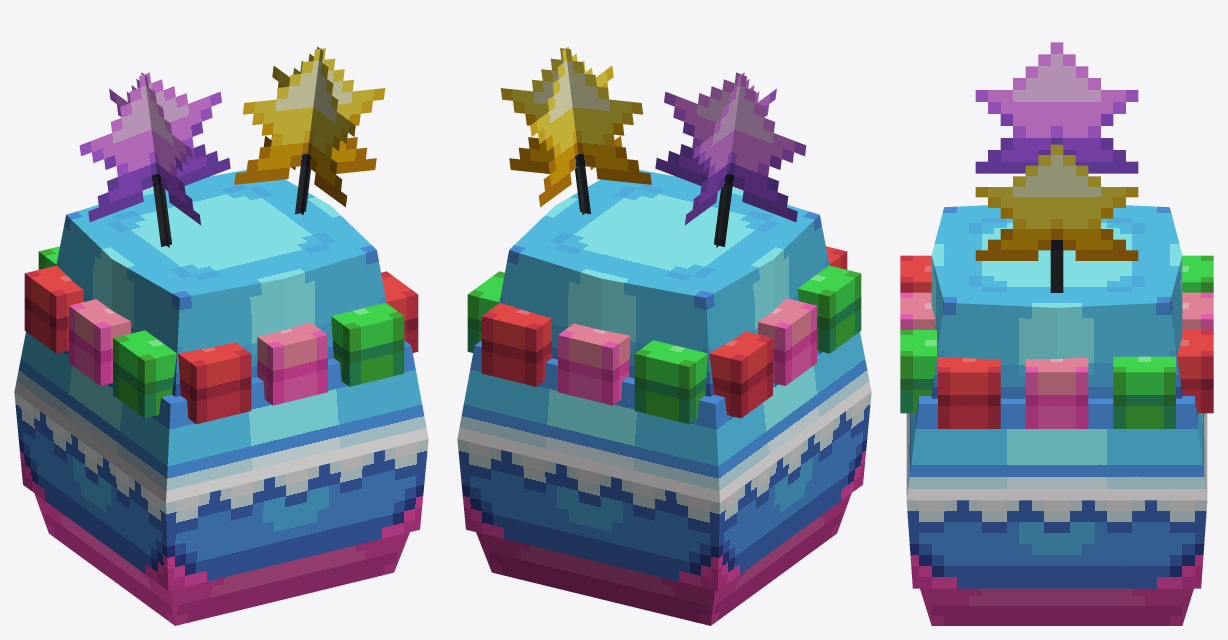
File: surprise-egg.gltf
3 renders of one model, left to right at view 1: azimuth 30°, elevation 25°; view 2: azimuth 150°, elevation 25°; view 3: azimuth 270°, elevation 25°, orthographic.
Parts seen in each view (by area): view 1: cube (×14); view 2: cube (×14); view 3: cube (×14).
Part boxes in pixels (x1,y1,x2,y2): cube (×14): (14,46,428,625); cube (×14): (457,46,871,625); cube (×14): (900,42,1213,625).
Bounding box in the file's own units: 0.9675 × 1.39 × 0.7812.
Materials: 3 (3 with a texture image).
